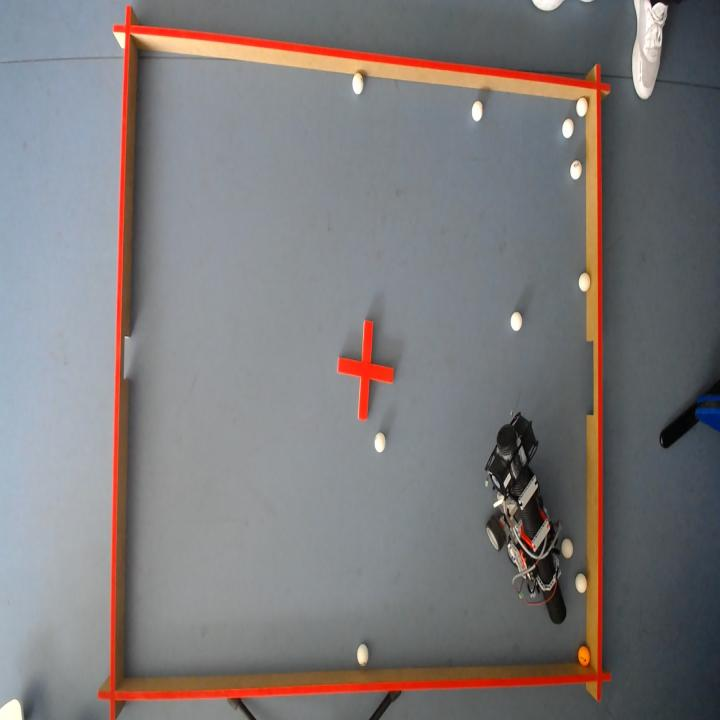orange: (579, 645, 591, 667)
robot: (486, 412, 567, 624)
white: (352, 70, 364, 93), (357, 644, 369, 667), (576, 573, 588, 594), (577, 95, 589, 115), (580, 271, 592, 291), (472, 99, 483, 120), (571, 159, 583, 178), (511, 311, 523, 330), (562, 539, 574, 558), (375, 432, 386, 452), (563, 117, 574, 136)
